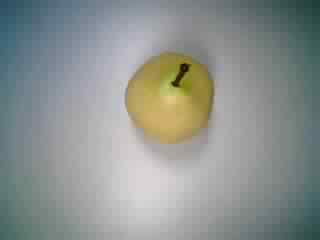pear: (106, 46, 231, 152)
